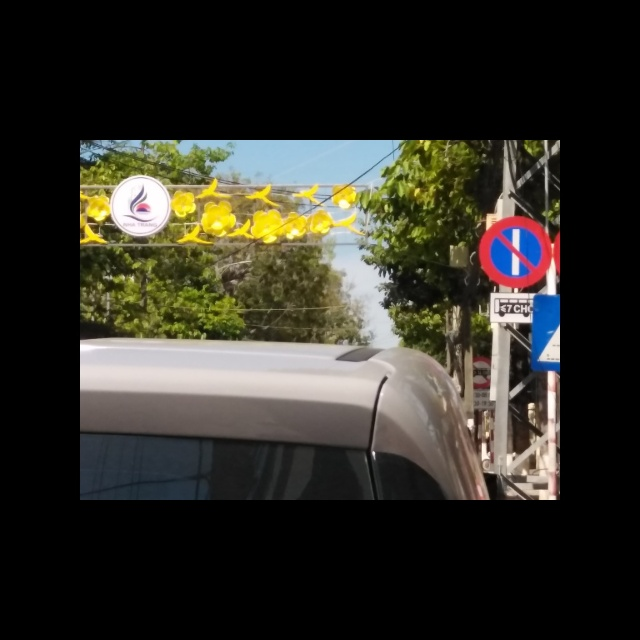Cấm đỗ xe ngày lẻ: (475, 216, 554, 289)
